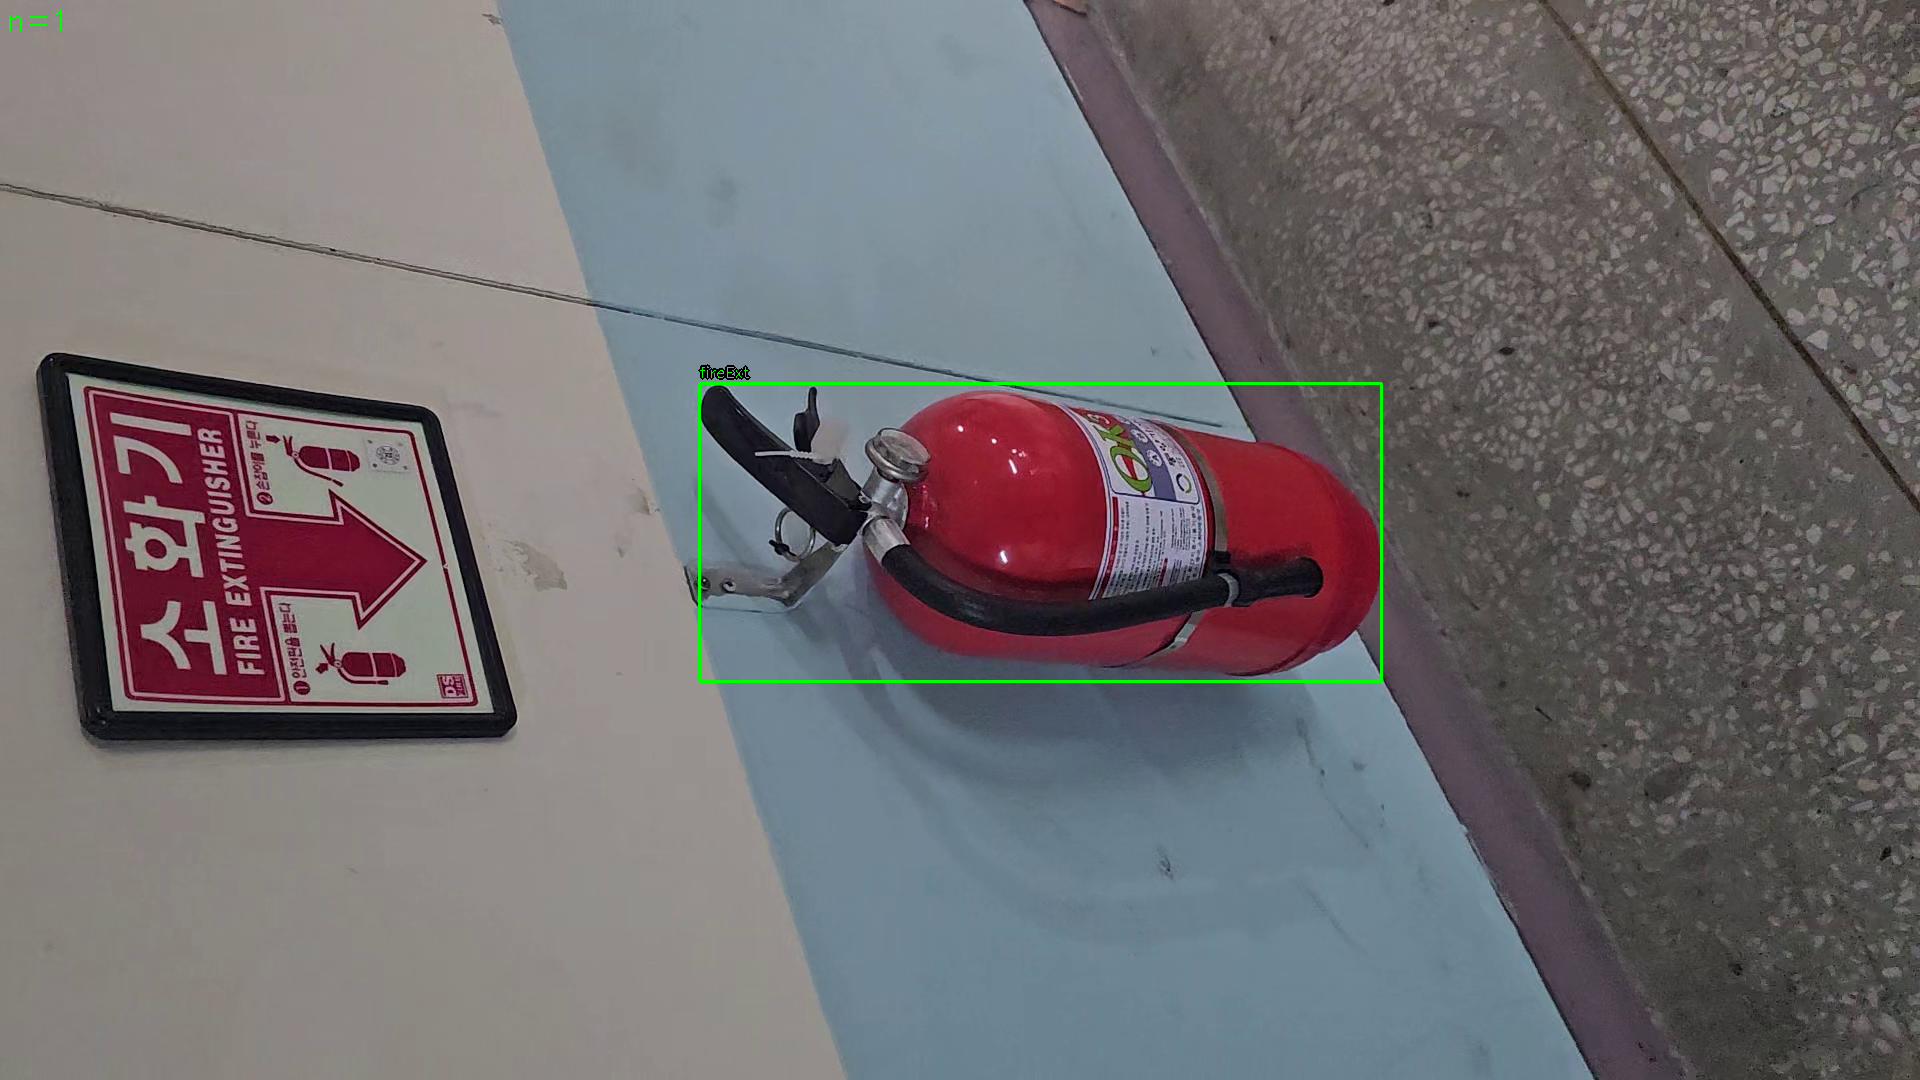lane: (699, 382, 1382, 682)
